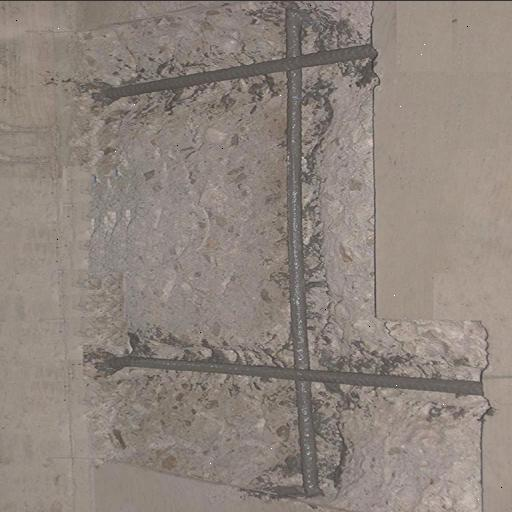spalling: (71, 2, 482, 510)
